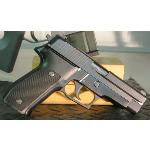Pistol: (2, 34, 148, 115)
